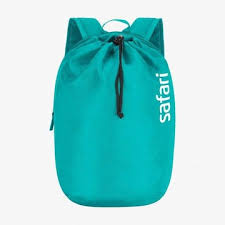backpack: (49, 16, 176, 207)
